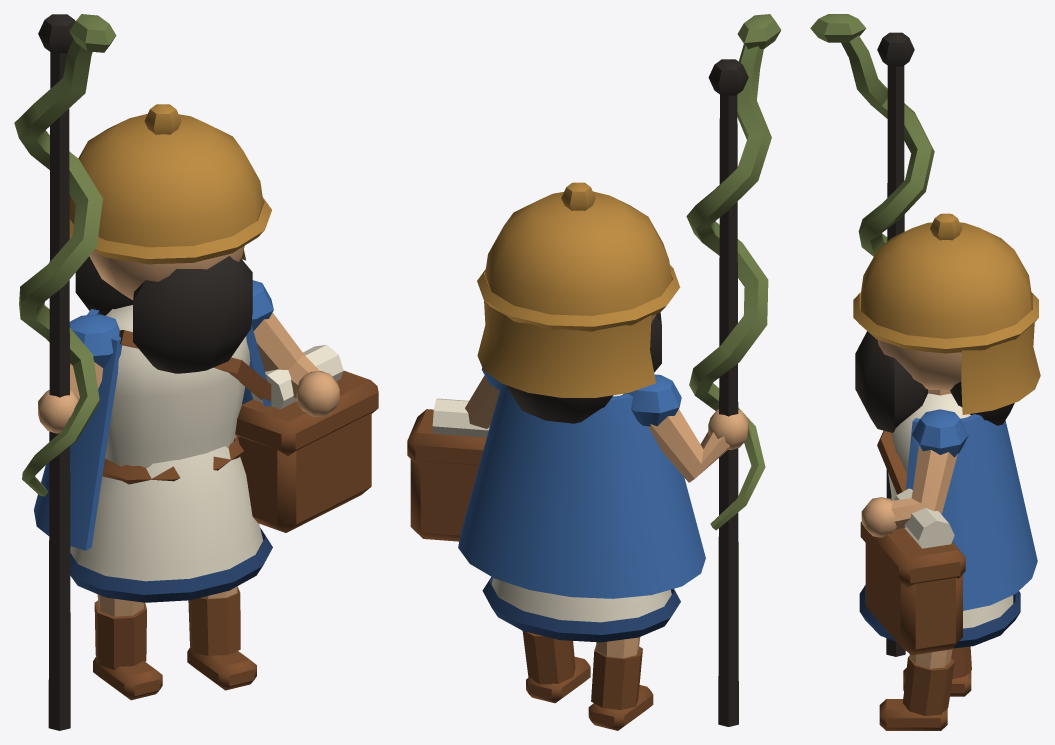
Rendered from machaon.glb.
3 renders of one model, left to right at view 1: azimuth 30°, elevation 25°; view 2: azimuth 150°, elevation 25°; view 3: azimuth 270°, elevation 25°, orthographic. The views are drawn at different scales.
Visible parts, largest first — view 1: machaon; view 2: machaon; view 3: machaon.
Boxes of the visible parts, bbox=[...] form: machaon: bbox=[14, 14, 378, 730]; machaon: bbox=[407, 14, 781, 730]; machaon: bbox=[810, 14, 1040, 730].
Bounding box in the file's own units: 0.4979 × 0.9524 × 0.3121.
